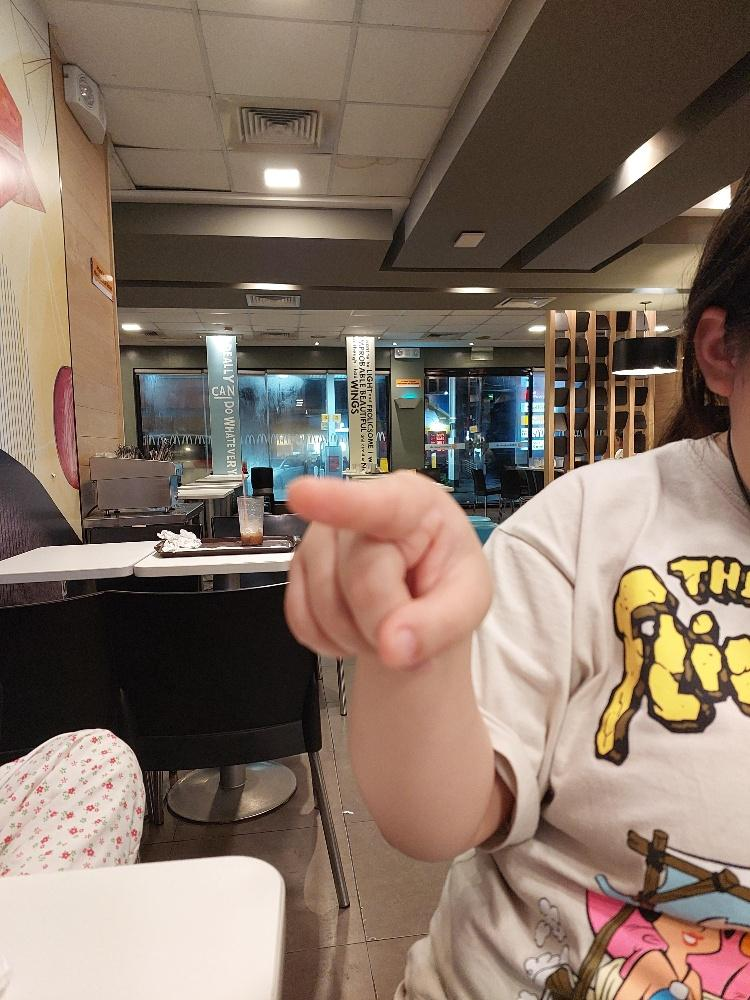z: (280, 465, 494, 673)
